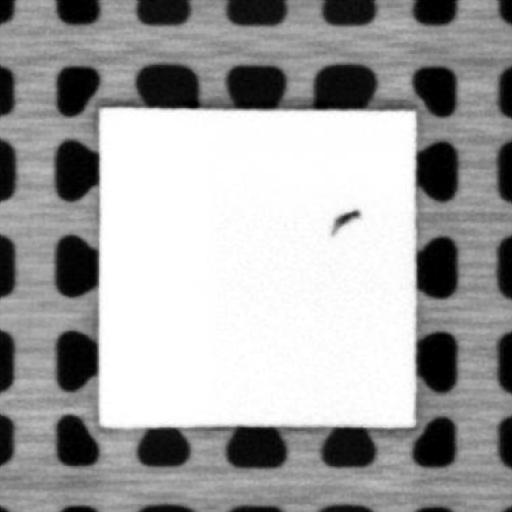DIE_INK: (328, 207, 359, 236)
